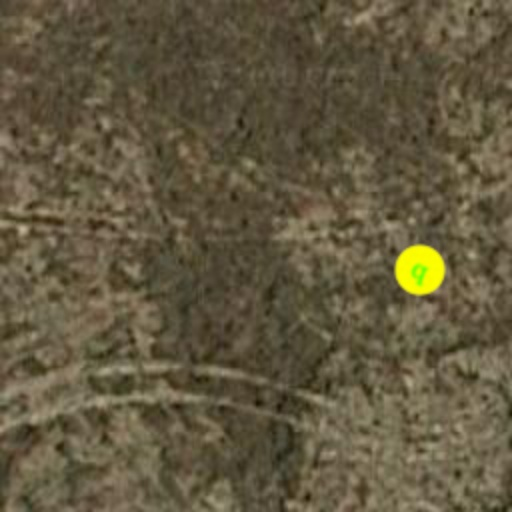circle: (386, 236, 454, 304)
